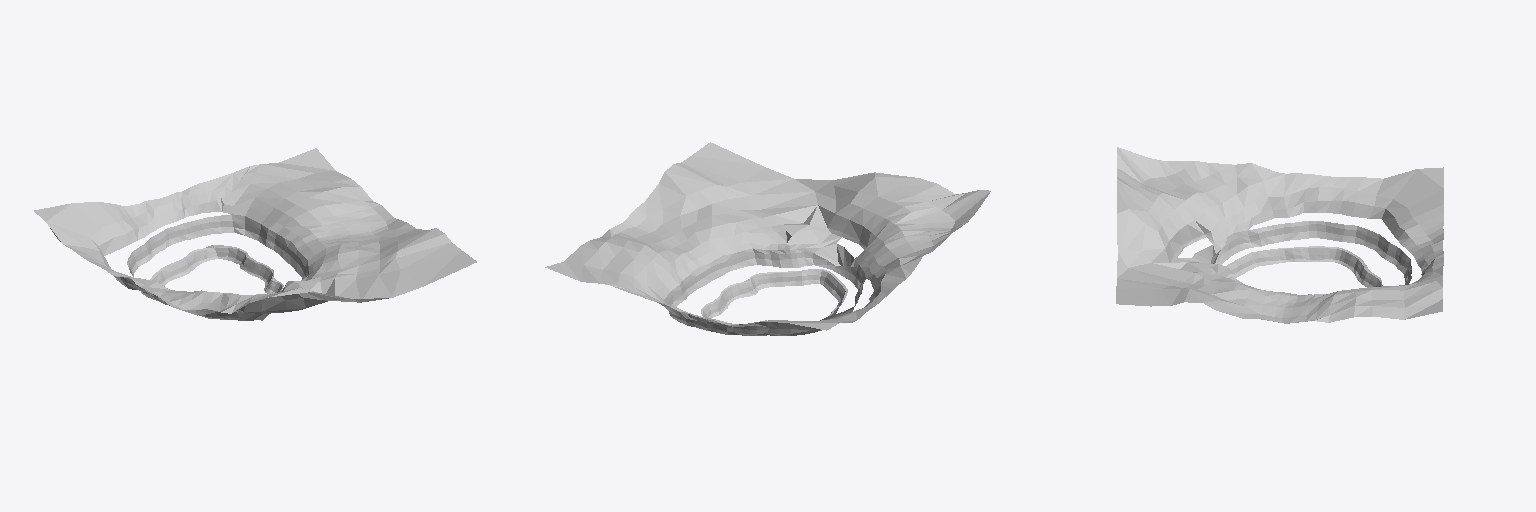
File: No cave.obj
3 views of the same model, side by side, from view 1: azimuth 30°, elevation 25°; view 2: azimuth 150°, elevation 25°; view 3: azimuth 270°, elevation 25° (orthographic).
Visible parts, largest first — view 1: polySurface13; view 2: polySurface13; view 3: polySurface13.
Boxes of the visible parts, box(x1,y1,x2,y2) form: polySurface13: box(34, 148, 476, 320); polySurface13: box(545, 142, 990, 335); polySurface13: box(1116, 147, 1443, 323).
Bounding box in the file's own units: 456 × 123 × 456.